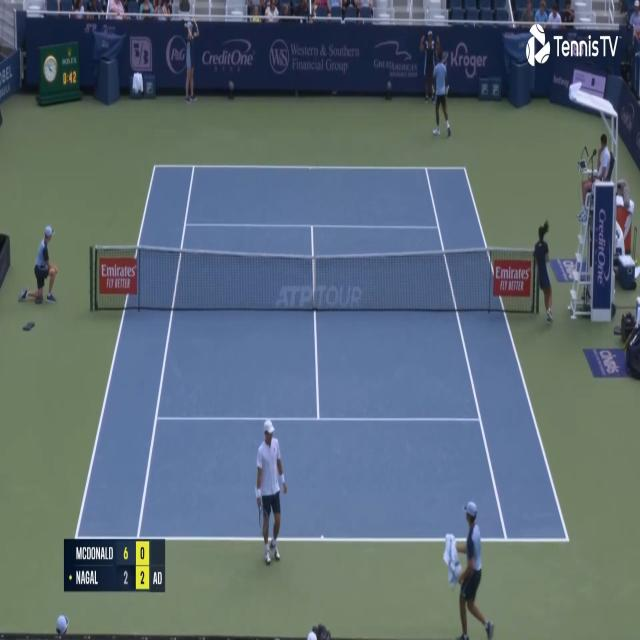tennis-player: (253, 414, 288, 567), (425, 49, 454, 141)
